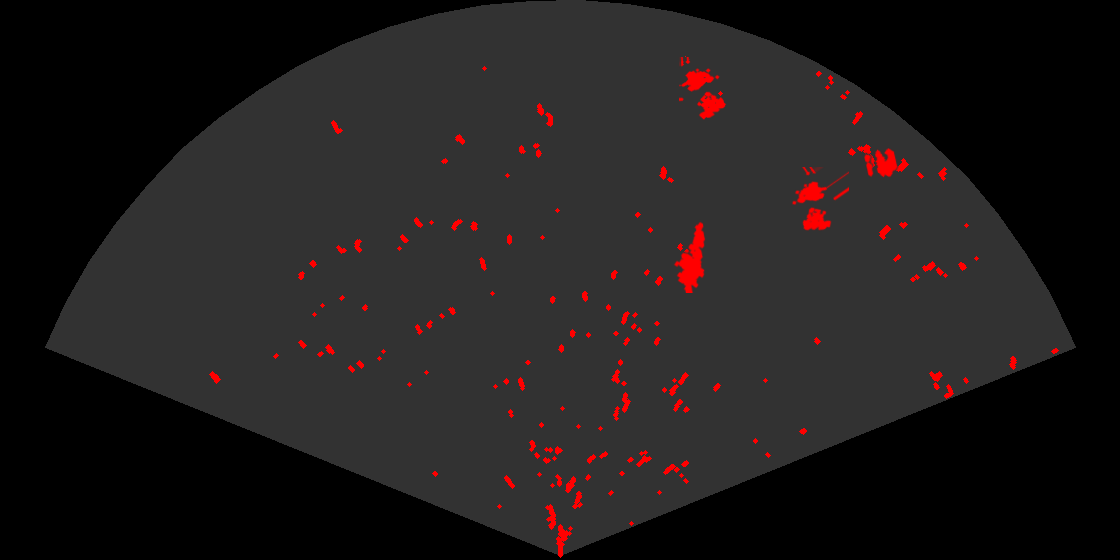ball: (863, 147, 899, 179)
cage: (790, 167, 849, 232), (679, 57, 728, 121)
frogman: (672, 219, 707, 293)
